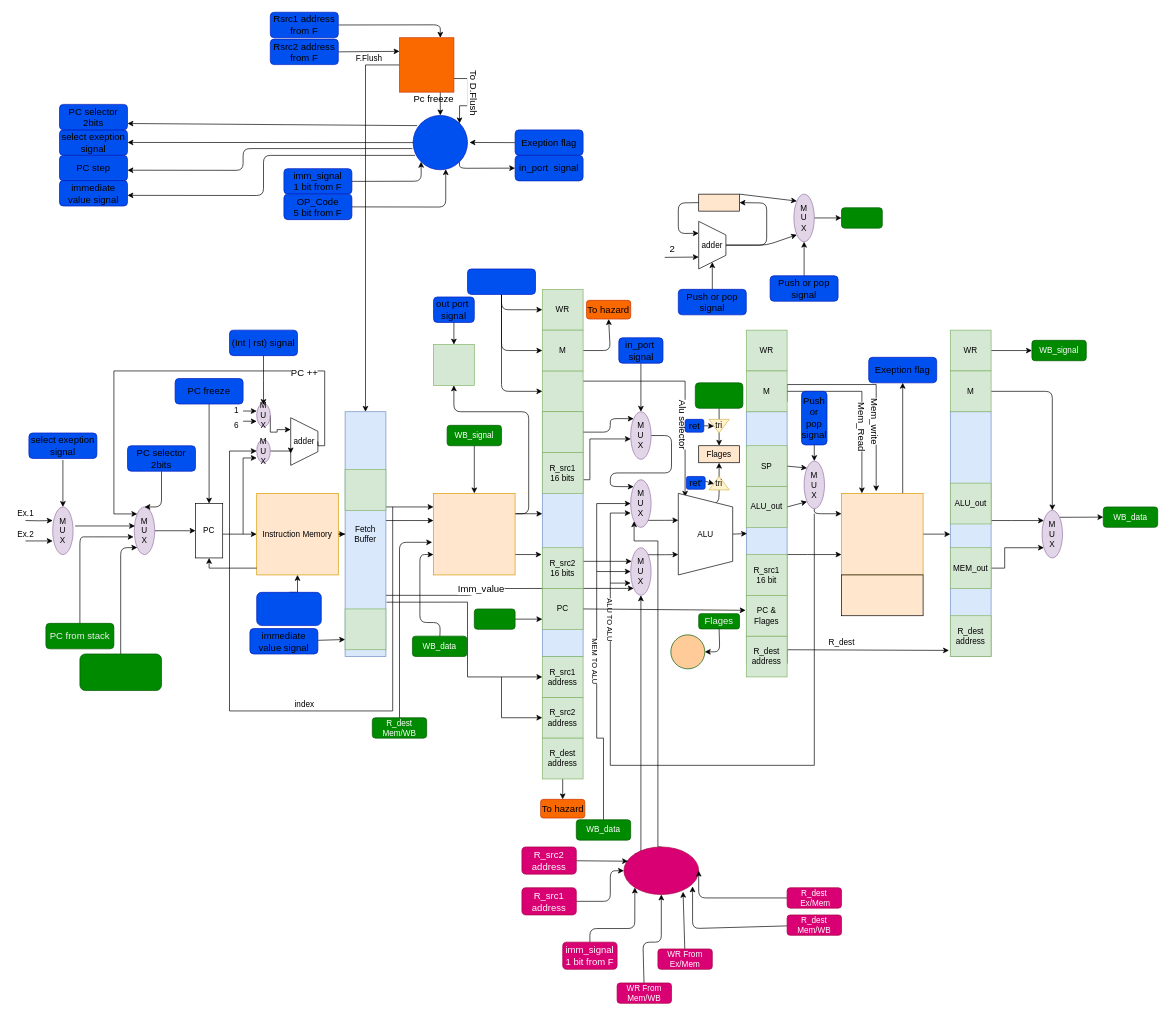
Image size: 1170x1015. Some labels were removed from this diagram. Each missing label, with the box of its shape:
(Int | rst) signal *to out 32 bit*: (256, 592, 321, 626)
call | jmp Pc: (670, 634, 705, 669)
control unit: (412, 115, 468, 170)
CU Signals: (467, 268, 536, 294)
Decode Buffer: (542, 411, 583, 657)
EX: (542, 370, 583, 412)
Execute Buffer: (746, 411, 787, 663)
Flages from stack: (695, 382, 743, 408)
Forwarding Unit: (623, 846, 699, 895)
hazard detection: (399, 37, 454, 92)
imm_signal 1 bit: (344, 608, 386, 650)
IN Port: (542, 411, 583, 453)
Instruction 16 bits: (344, 469, 386, 510)
Memory: (841, 493, 923, 575)
Memory Buffer: (950, 411, 991, 657)
Out Port: (433, 344, 474, 385)
PC from decode(jmp | call): (79, 653, 162, 691)
PC_reg: (474, 608, 515, 629)
Register File: (433, 493, 515, 575)
SP EX_buffer: (841, 207, 882, 228)
SP reg: (698, 193, 740, 211)
Stack: (841, 574, 923, 616)
